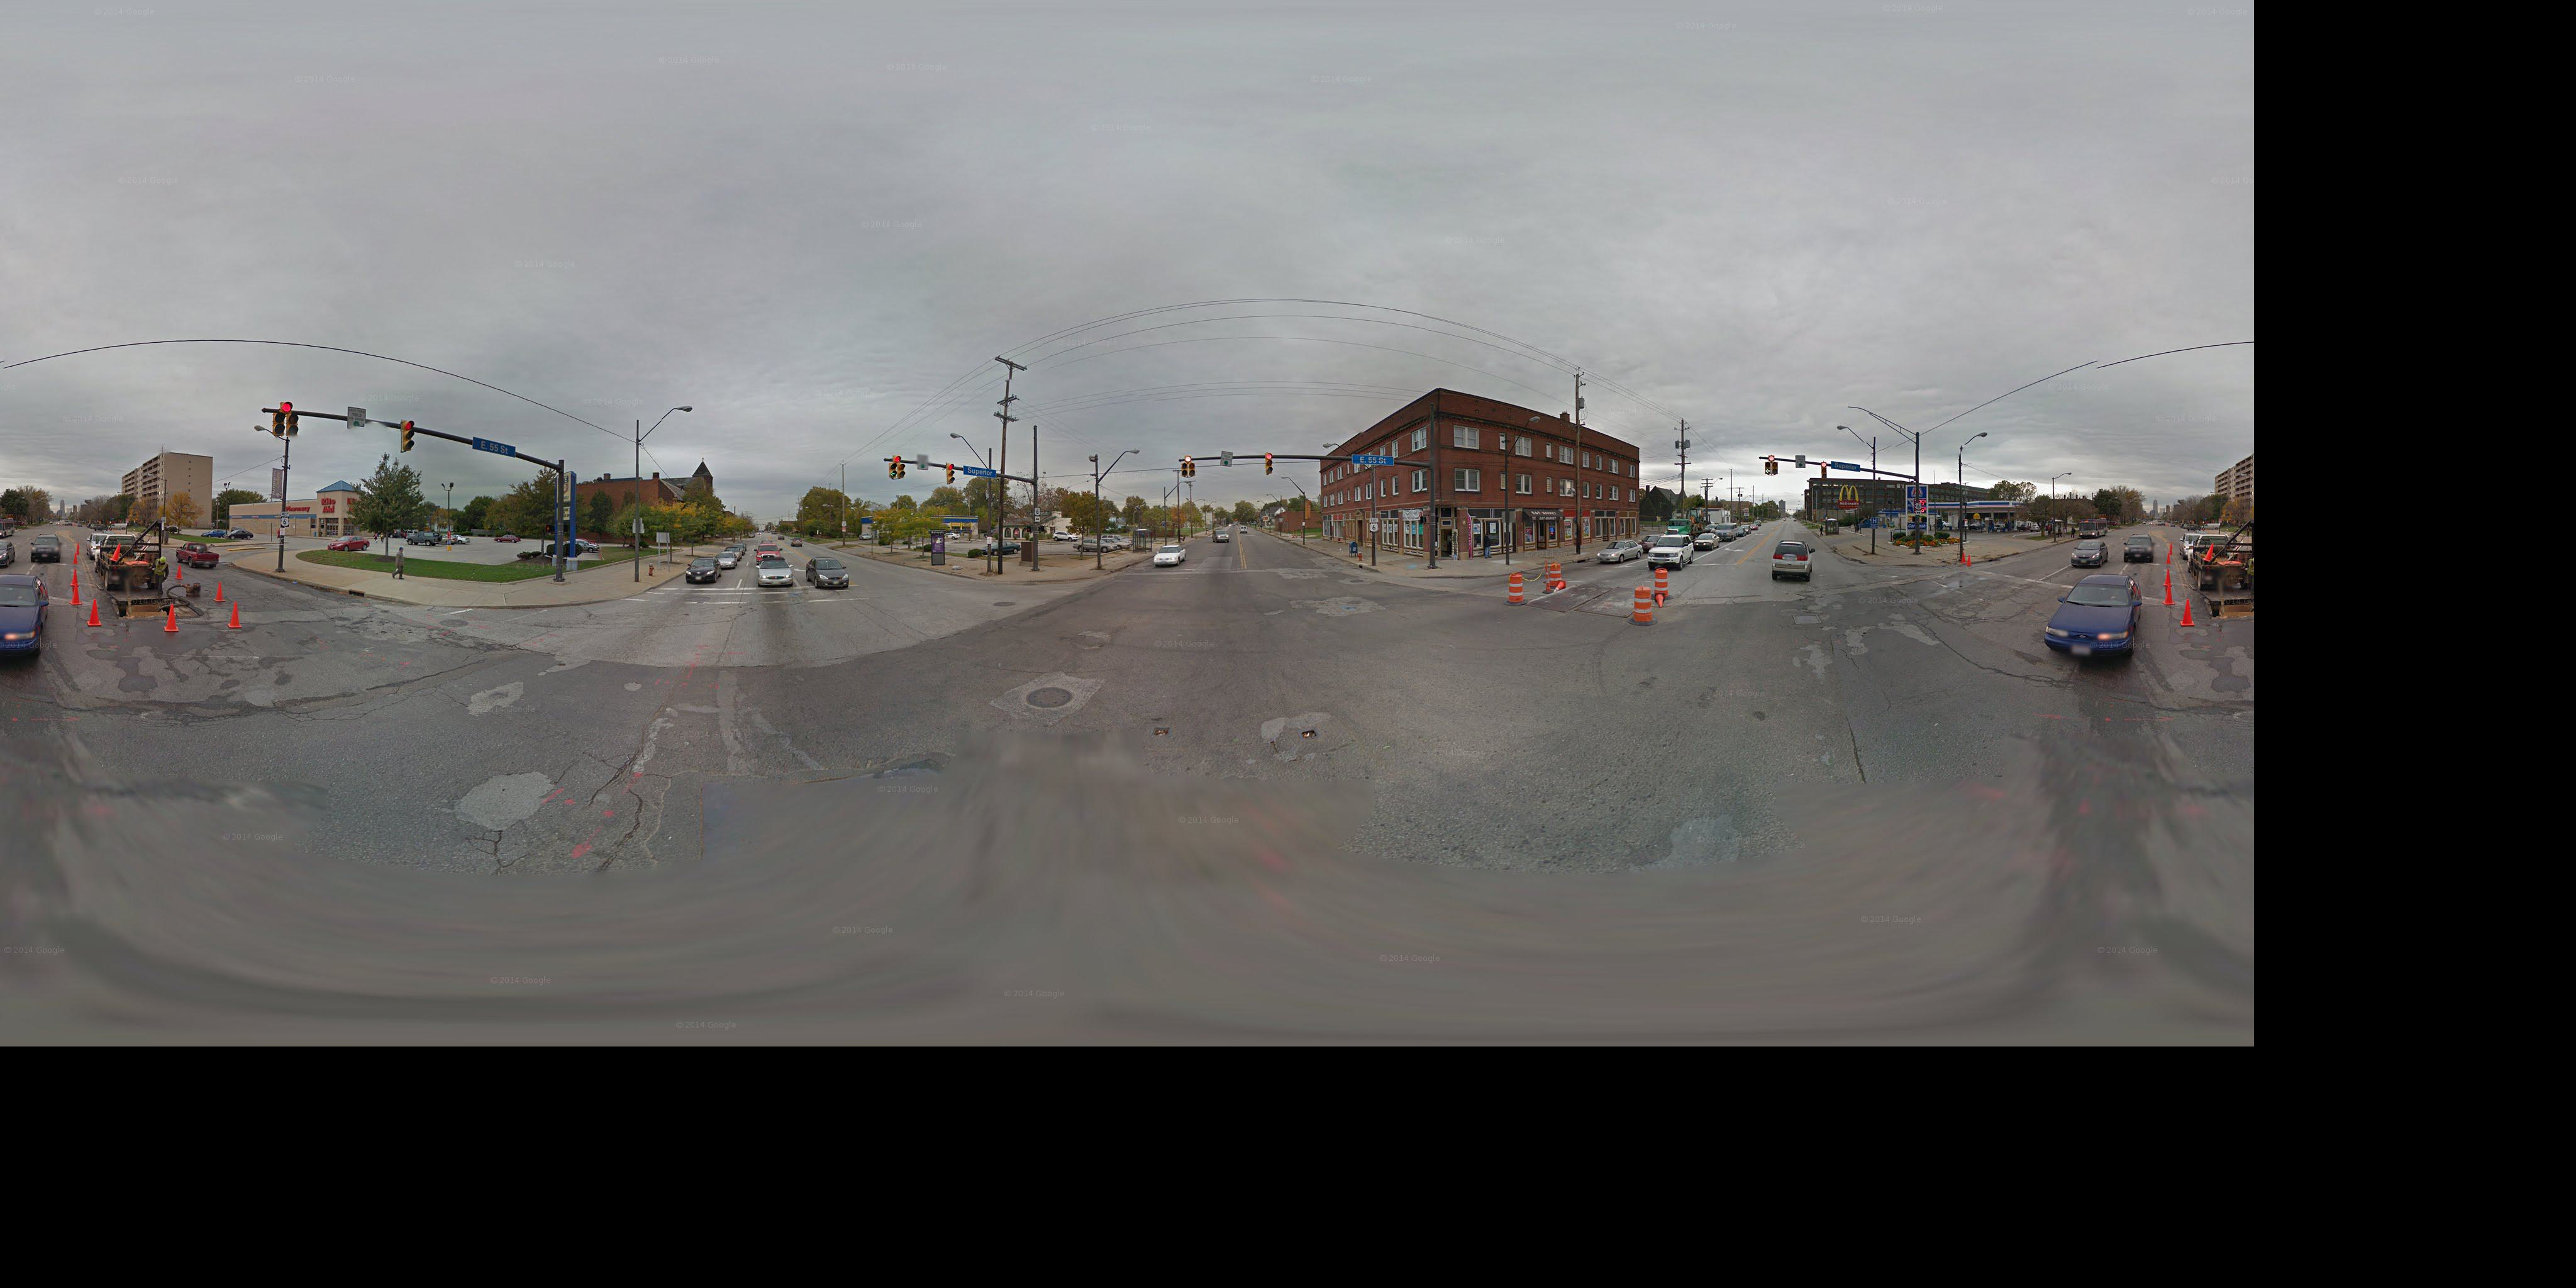Curb Ramp: (1382, 563, 1411, 583), (1510, 559, 1538, 575), (1865, 557, 1896, 568)
Irregular Ramp: (1927, 554, 1963, 570)
